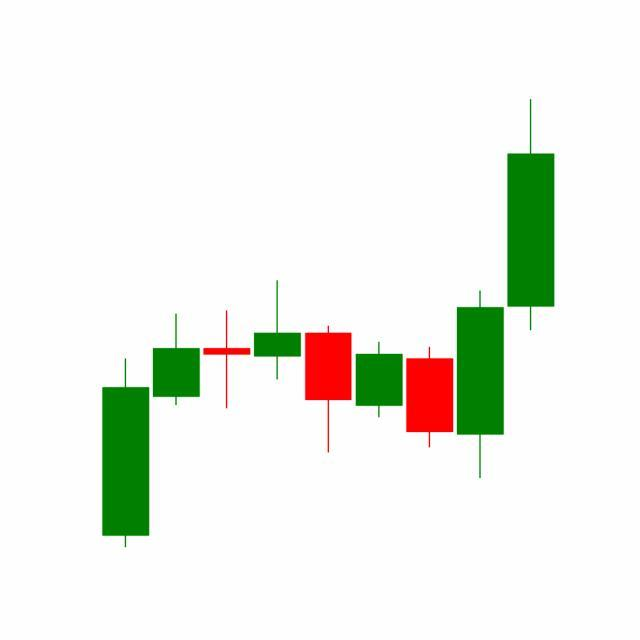Hikkake Pattern: (252, 278, 506, 481)
